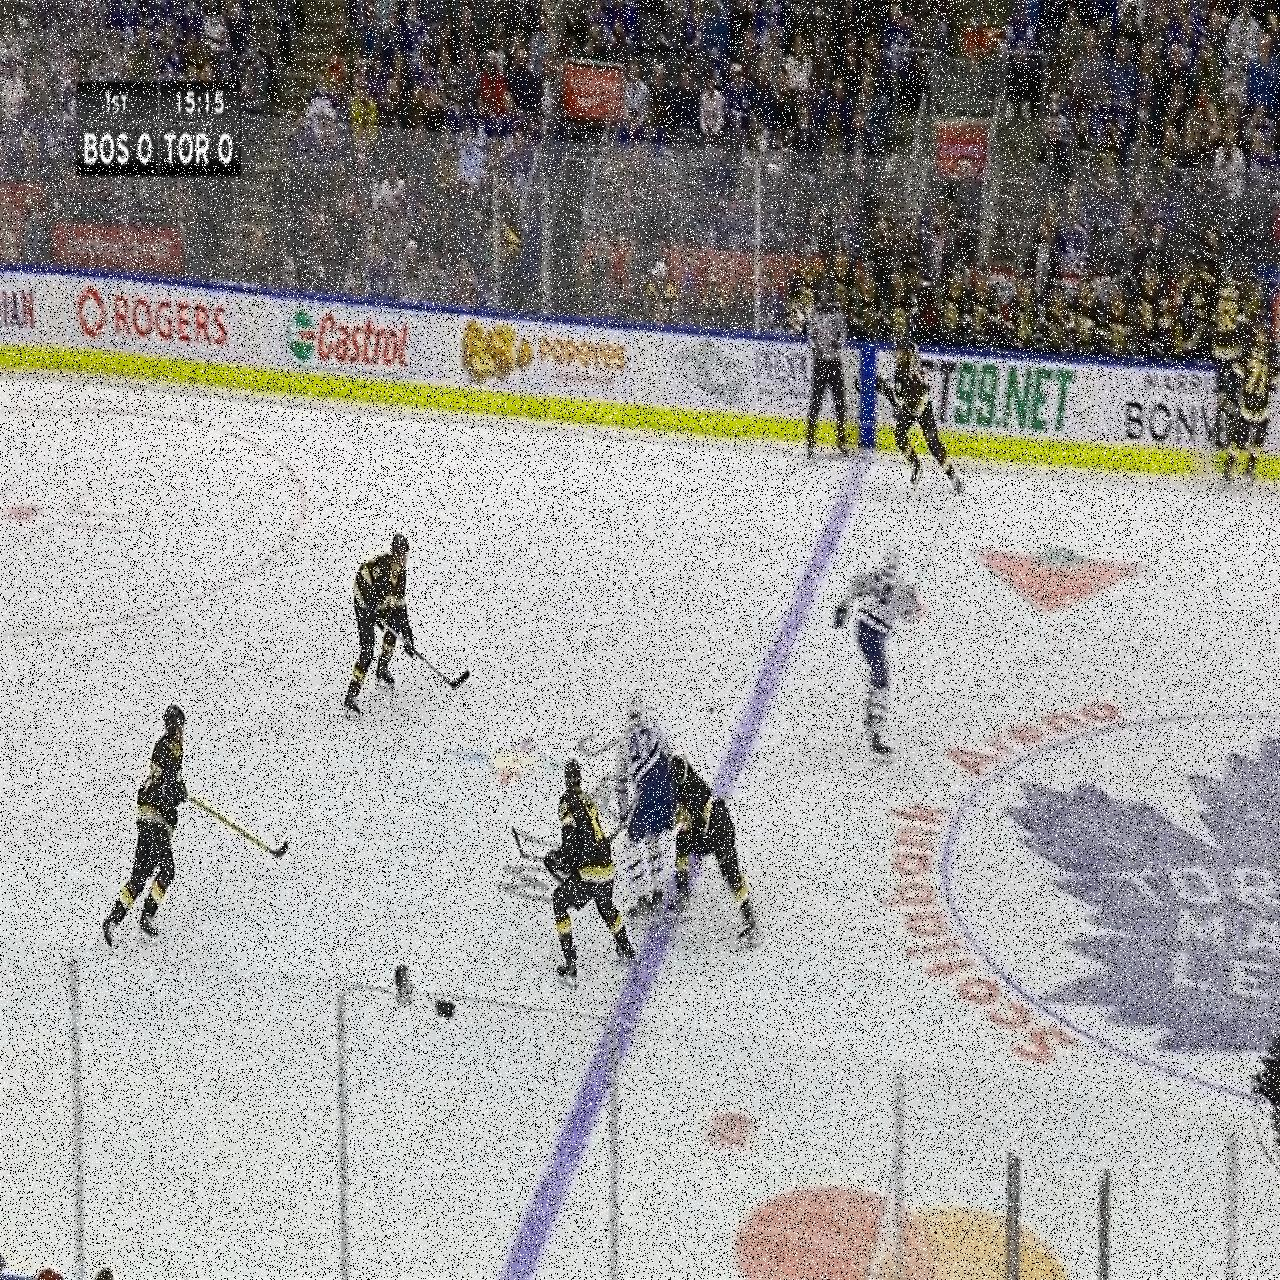Ad: (449, 721, 640, 912), (458, 306, 628, 410), (967, 535, 1145, 633), (70, 267, 232, 360), (918, 366, 1091, 445), (670, 329, 815, 422), (284, 294, 418, 384), (1124, 366, 1226, 471)
